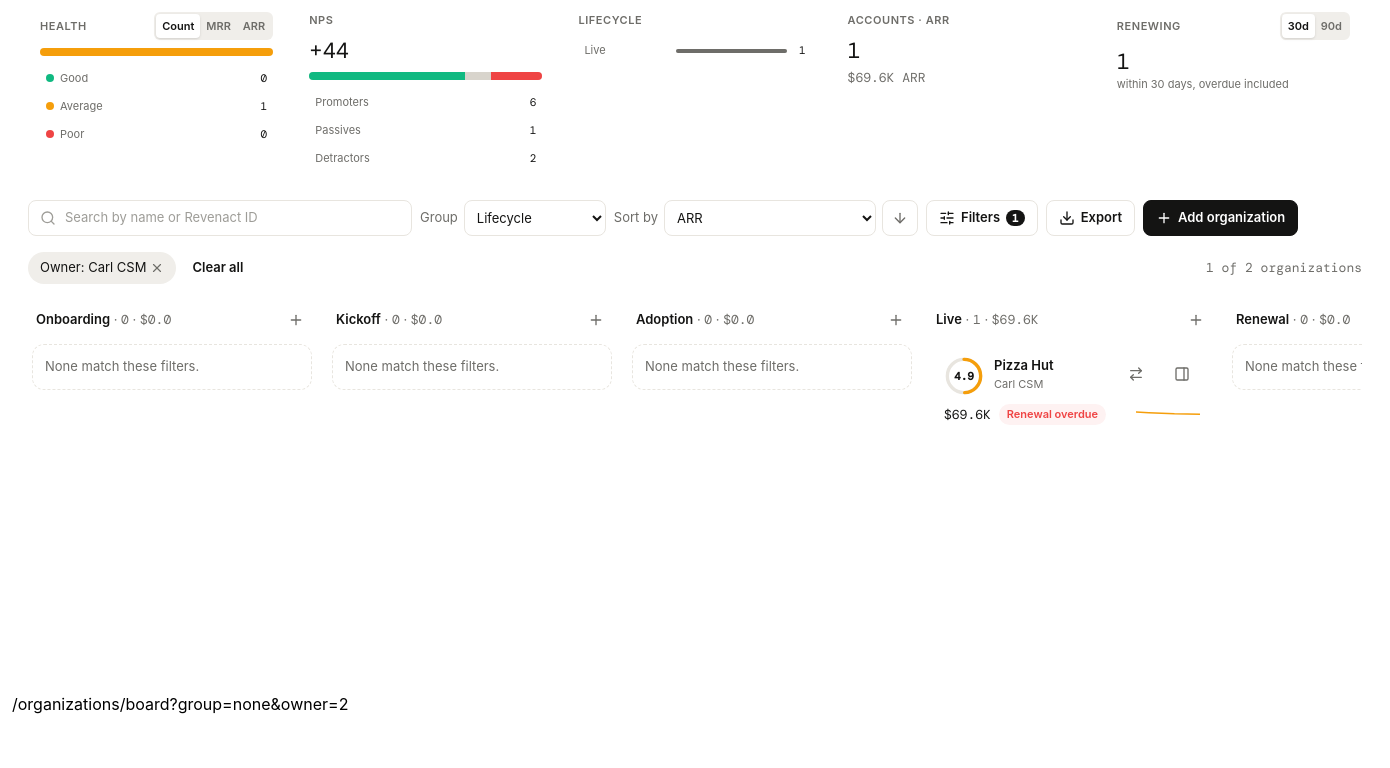
Test: Organizations board (portfolio) › filters through the URL like the List; group=none still shows lifecycle columns
Expected: the text "1 of 2 organizations" is shown, [1206, 258, 1362, 278]
Expected: the dropdown labelled "Group" shows "Lifecycle", [464, 200, 606, 236]
Click the button with aria-label "Remove Owner: Carl CSM" at (102, 268), box [28, 252, 176, 284]
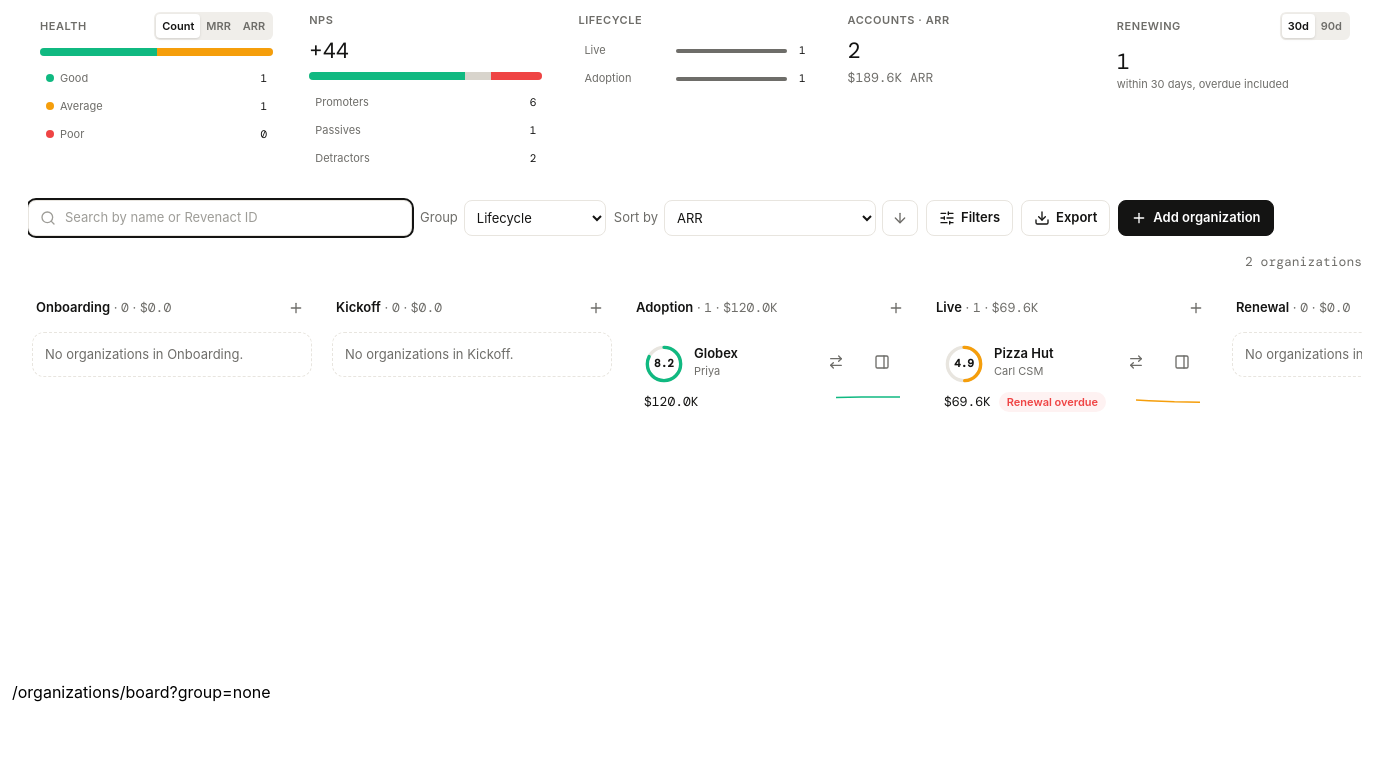
Select "Health" in the dropdown labelled "Group" at (535, 218), box [464, 200, 606, 236]
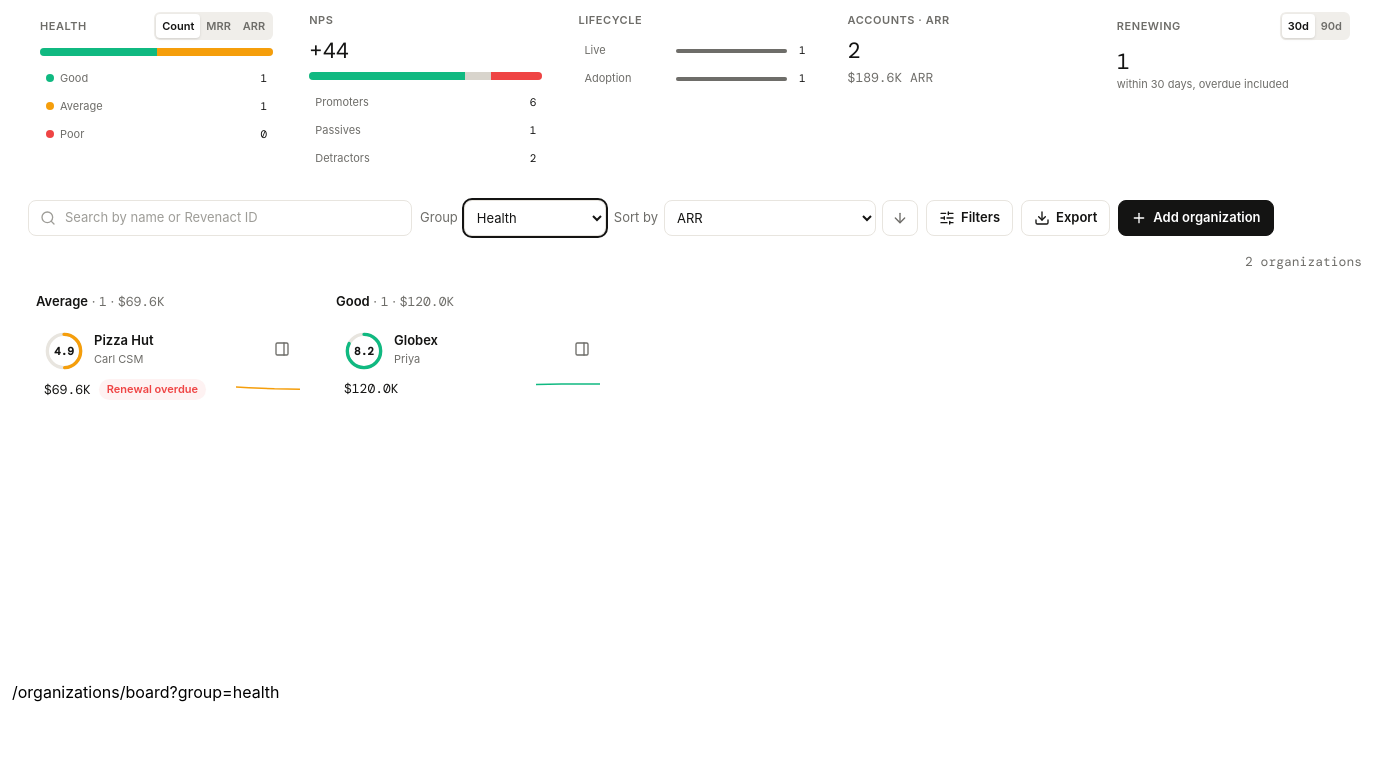
Expected: the heading "Average · 1 · $69.6K" is shown, [36, 292, 165, 310]
Expected: the link "Pizza Hut" is shown, [94, 332, 154, 348]
